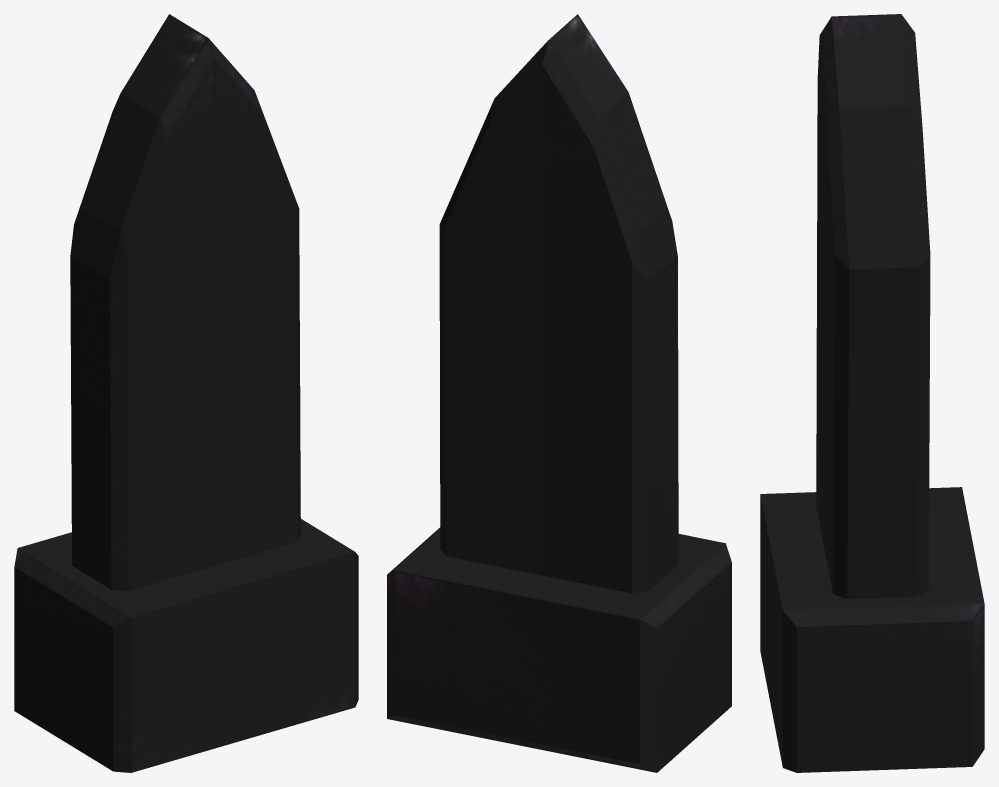
File: LapidePontuda.fbx
The picture shows the model from 3 angles, left to right: view 1: azimuth 30°, elevation 25°; view 2: azimuth 150°, elevation 25°; view 3: azimuth 270°, elevation 25°; orthographic projection.
Visible parts, largest first — view 1: LapideCurvada; view 2: LapideCurvada; view 3: LapideCurvada.
Part boxes in pixels (x1,y1,x2,y2): LapideCurvada: (14, 14, 358, 772); LapideCurvada: (387, 14, 731, 772); LapideCurvada: (760, 14, 984, 772).
Bounding box in the file's own units: 39.69 × 95.93 × 28.2.
